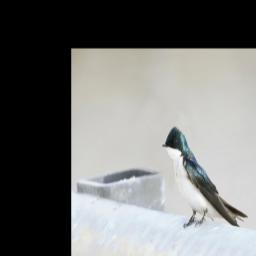Swallow: (161, 124, 249, 232)
